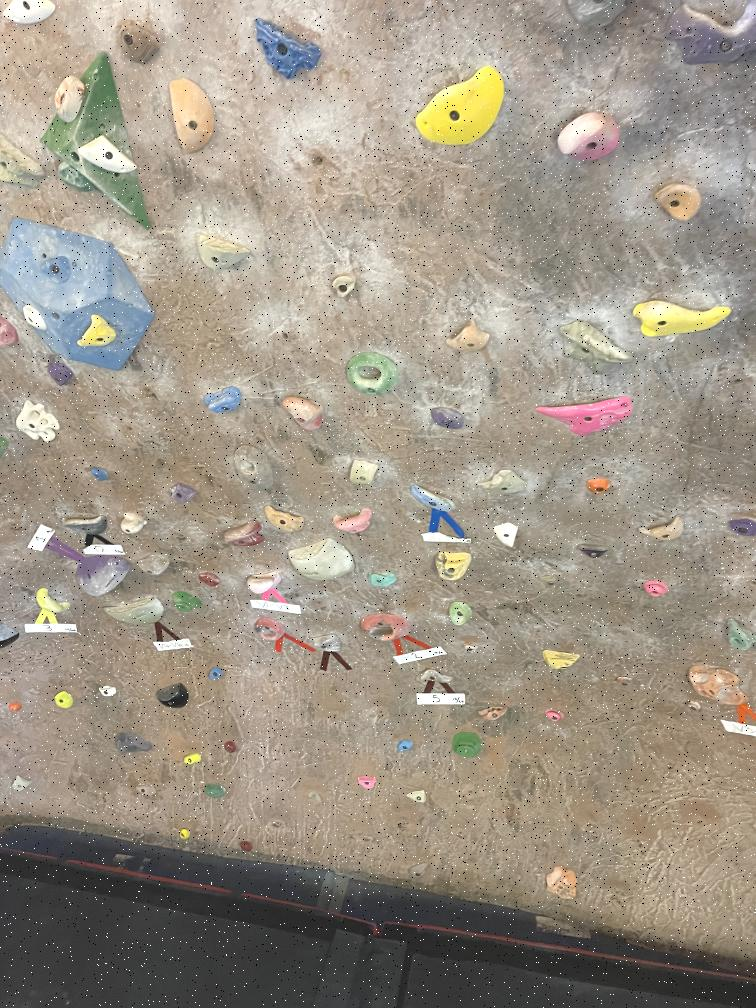Crimp: (248, 12, 328, 87), (78, 136, 139, 178), (53, 161, 90, 196), (37, 256, 75, 288), (430, 404, 469, 435), (46, 357, 78, 394), (491, 520, 525, 550), (22, 304, 48, 338), (363, 567, 400, 588), (418, 667, 458, 686), (476, 703, 510, 724), (306, 636, 347, 653), (581, 544, 609, 562)
Edges: (407, 60, 506, 155), (632, 289, 734, 344), (534, 391, 638, 442), (165, 74, 218, 153), (193, 230, 258, 276), (284, 541, 357, 580), (100, 593, 168, 629), (15, 403, 65, 441), (263, 502, 308, 535), (476, 470, 533, 496)
Foothold: (326, 272, 361, 296), (585, 471, 612, 498), (727, 515, 756, 539), (642, 580, 668, 602), (406, 859, 428, 882), (11, 771, 32, 794), (52, 690, 76, 710), (405, 789, 430, 806), (197, 570, 222, 587), (356, 773, 380, 790), (205, 664, 226, 683), (136, 782, 158, 799), (396, 736, 418, 752), (544, 707, 564, 723), (688, 697, 704, 717), (97, 683, 116, 699), (616, 674, 634, 690), (8, 700, 25, 716), (240, 837, 255, 855), (221, 739, 236, 756), (185, 751, 202, 765), (464, 642, 478, 658), (180, 828, 192, 841)
Hand-holds: (558, 316, 634, 376)
Jug: (665, 0, 756, 65), (552, 102, 625, 169), (280, 387, 327, 437), (655, 178, 701, 228), (74, 558, 132, 596), (409, 482, 461, 521), (439, 317, 494, 353), (327, 506, 374, 537), (638, 517, 688, 545), (76, 314, 116, 348), (221, 522, 264, 548), (244, 572, 283, 595), (37, 586, 70, 613), (67, 516, 107, 534)
Pinch: (111, 729, 152, 758), (348, 460, 382, 488)
Pocket: (342, 353, 404, 396), (235, 444, 275, 488), (359, 614, 415, 644), (252, 616, 284, 644), (447, 601, 473, 628)
Sloper: (690, 664, 749, 702), (113, 22, 163, 64), (52, 74, 88, 121), (201, 385, 246, 418), (541, 865, 576, 907), (432, 550, 475, 581), (724, 616, 756, 656), (536, 649, 583, 674), (454, 731, 482, 763), (136, 553, 173, 577), (154, 684, 190, 708), (171, 592, 204, 614), (167, 482, 199, 504), (121, 514, 150, 537), (88, 462, 113, 482), (204, 780, 228, 799)
